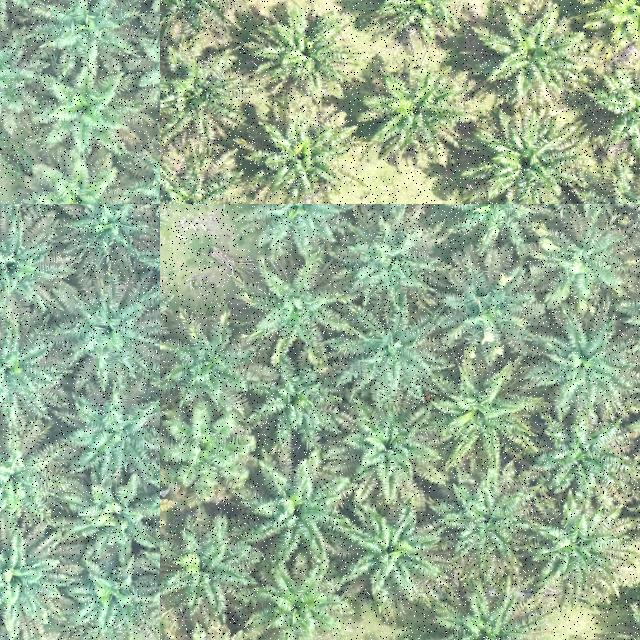Ganoderma: (602, 0, 640, 36)
